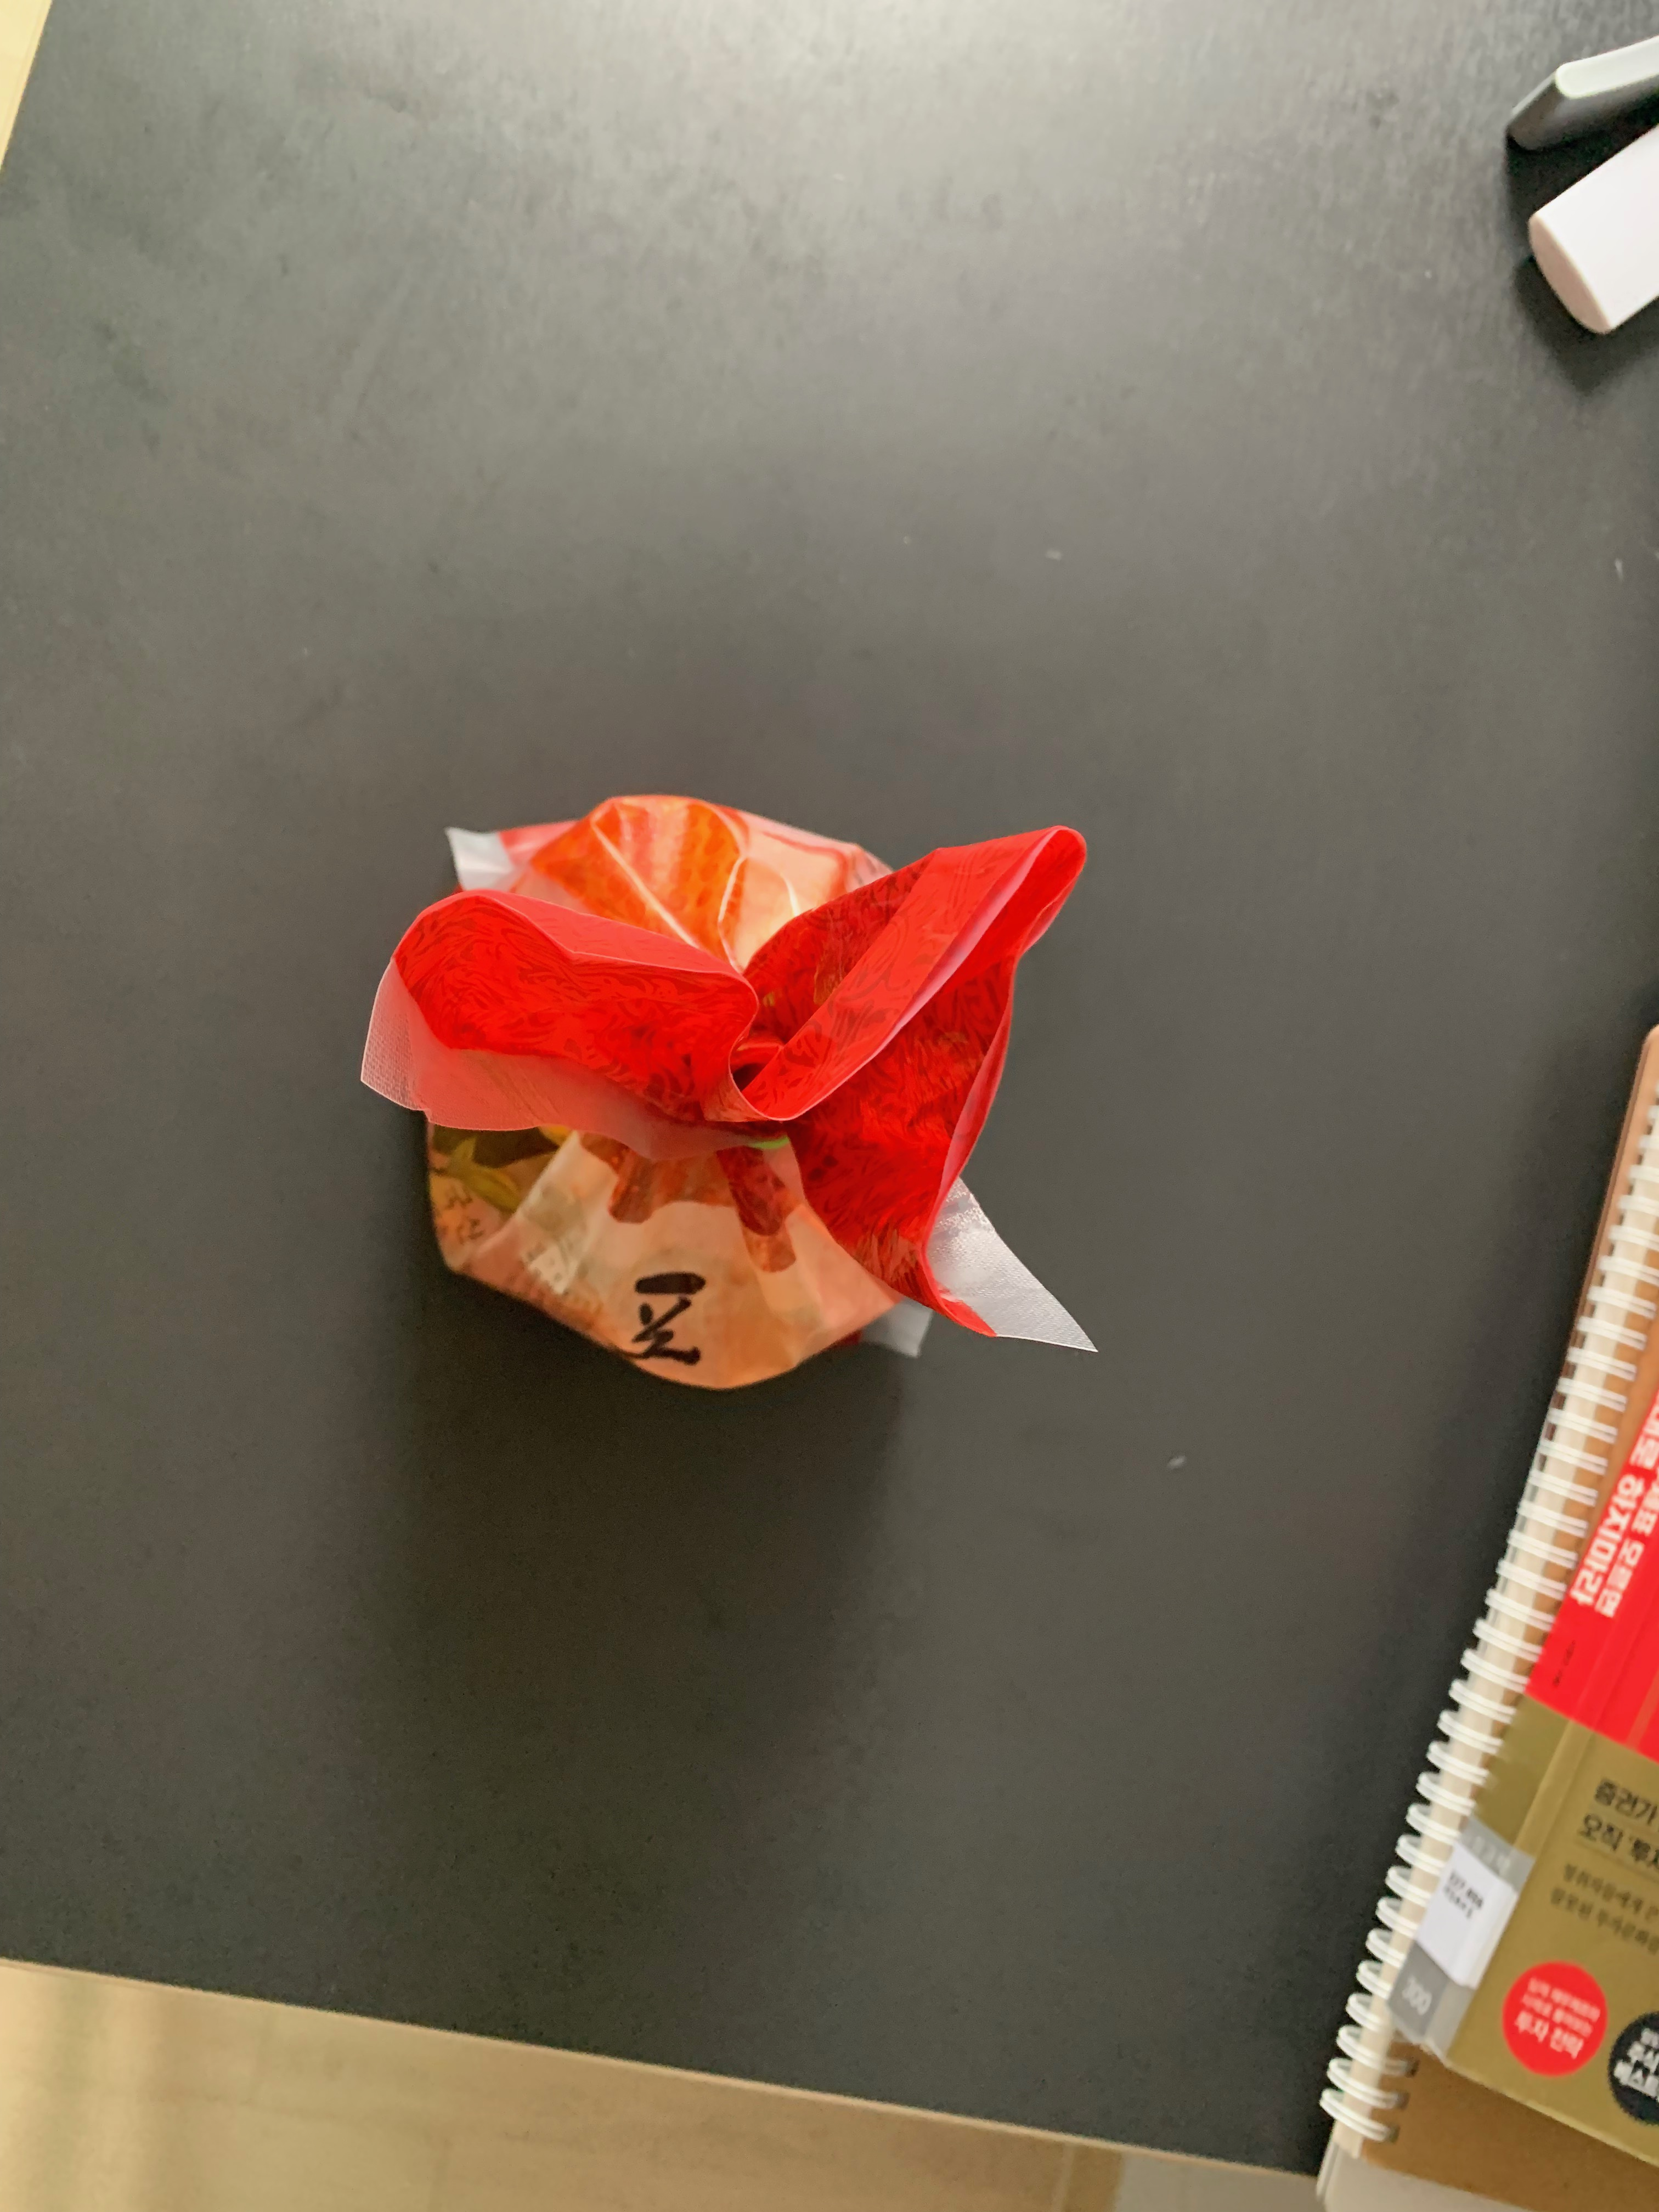kimchi: (394, 796, 1084, 1393)
